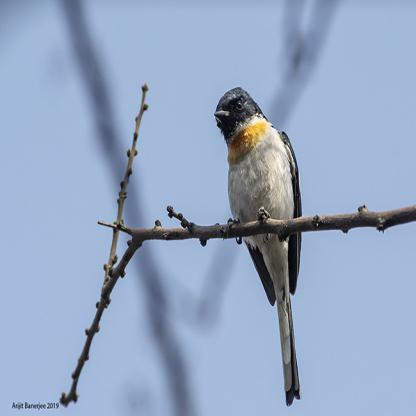Burung: (214, 86, 301, 406)
